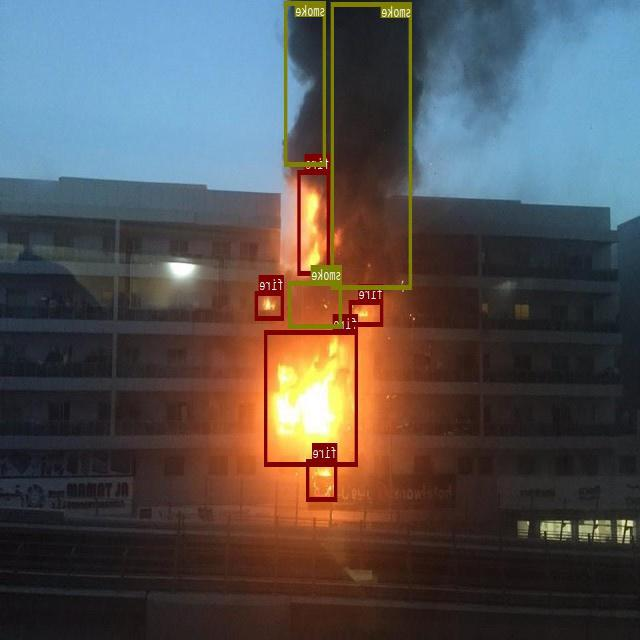fire: (265, 330, 358, 466), (298, 169, 330, 275), (307, 459, 338, 501), (349, 299, 384, 325), (256, 290, 284, 319)
smoke: (332, 1, 412, 289), (285, 1, 327, 166), (289, 280, 342, 327)
